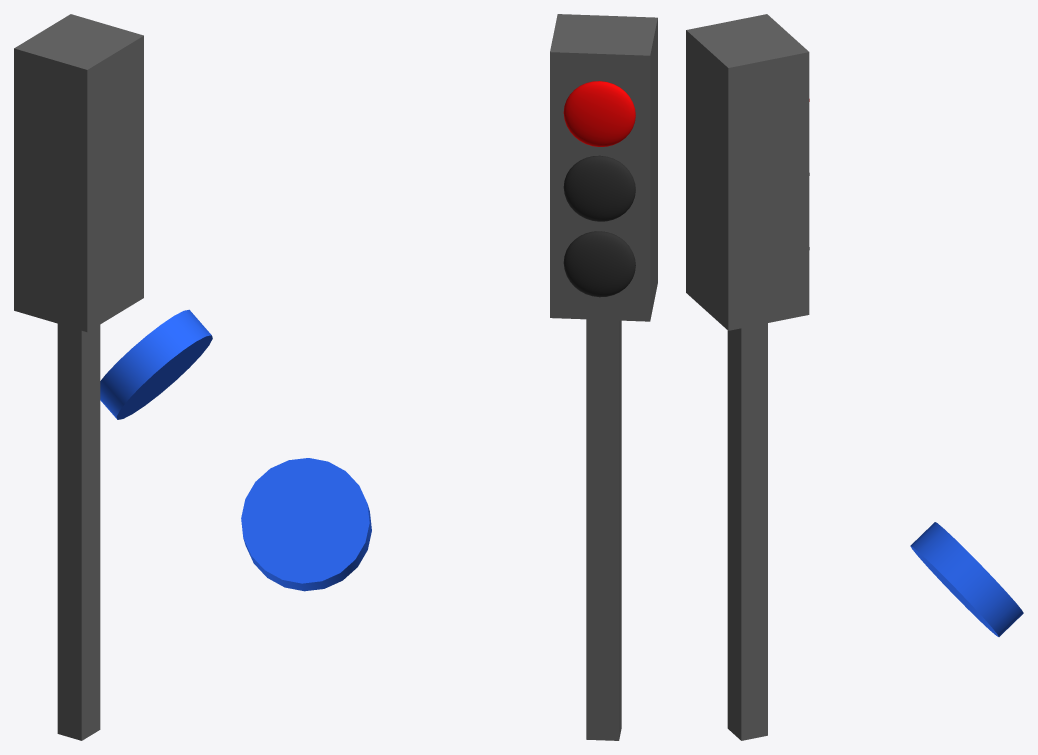
Rendered from TrafficLight_Simple_Interpolate_PlaySound.glb.
3 renders of one model, left to right at view 1: azimuth 30°, elevation 25°; view 2: azimuth 150°, elevation 25°; view 3: azimuth 270°, elevation 25°, orthographic.
Parts seen in each view (by area): view 1: Cube, Cube (1), Cylinder; view 2: Cube, Cube (1), Cylinder, Middle, Top, Bottom; view 3: Cube, Cube (1), Cylinder.
Boxes of the visible parts, x1,y1,x2,y2 form: Cube: (14, 14, 143, 332); Cube (1): (57, 323, 100, 740); Cylinder: (100, 309, 212, 419); Cube: (550, 14, 657, 321); Cube (1): (586, 319, 621, 740); Cylinder: (241, 458, 371, 591); Middle: (563, 155, 635, 221); Top: (563, 81, 635, 146); Bottom: (563, 231, 635, 297); Cube: (686, 14, 809, 330); Cube (1): (727, 323, 767, 740); Cylinder: (910, 522, 1023, 636).
Bounding box in the file's own units: 1.96 × 4.37 × 1.94.
